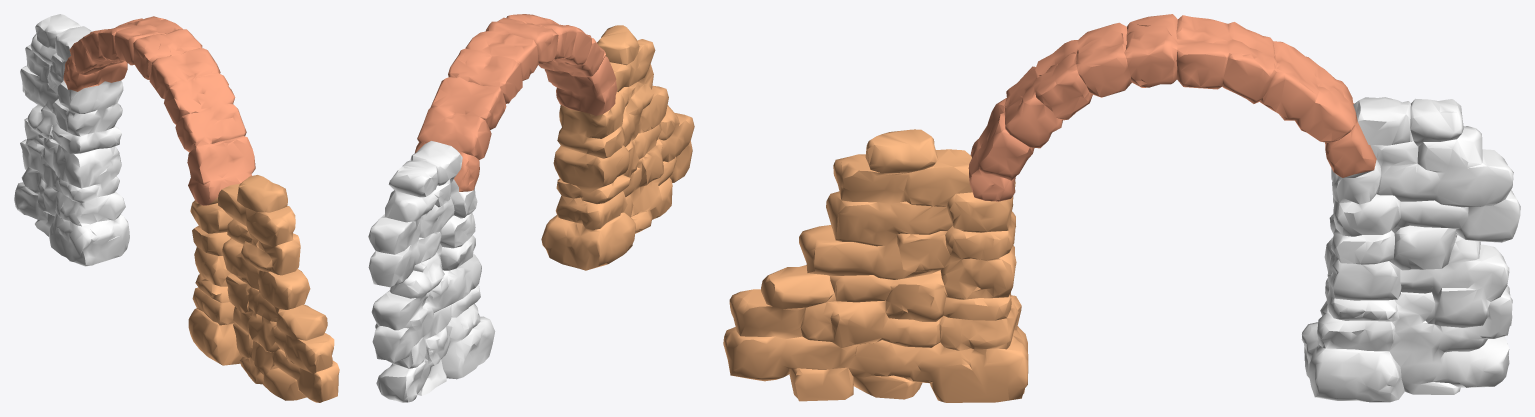
Rendered from Archway_fbx.fbx.
3 views of the same model, side by side, from view 1: azimuth 30°, elevation 25°; view 2: azimuth 150°, elevation 25°; view 3: azimuth 270°, elevation 25° (orthographic). The views are drawn at different scales.
Parts seen in each view (by area): view 1: Archway1; view 2: Archway1; view 3: Archway1.
Boxes of the visible parts, <box> form: Archway1: <box>14,14,339,402</box>; Archway1: <box>368,14,694,402</box>; Archway1: <box>723,14,1520,402</box>.
Bounding box in the file's own units: 0.8574 × 3.53 × 7.08.
